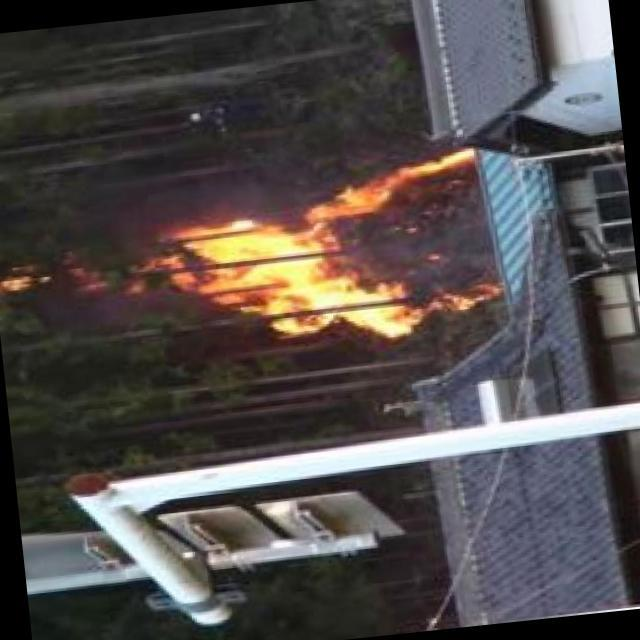Fire: (64, 152, 498, 359)
